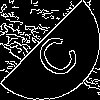C: (25, 25, 84, 83)
